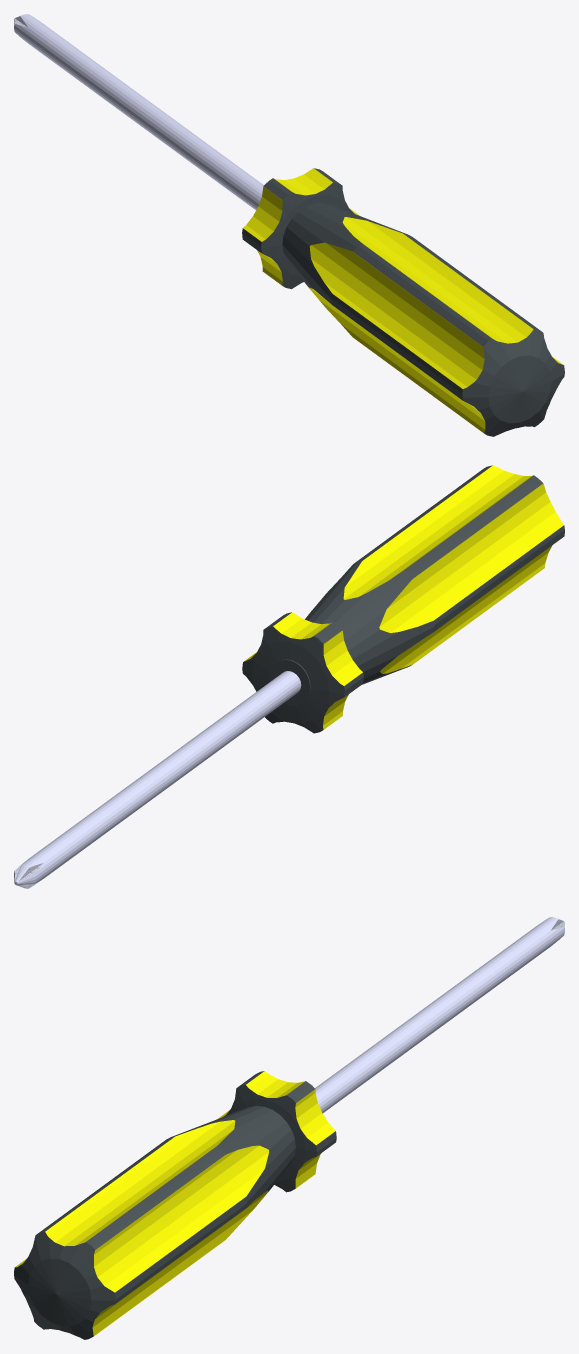
3 views of the same model, one above another, from view 1: azimuth 30°, elevation 25°; view 2: azimuth 150°, elevation 25°; view 3: azimuth 330°, elevation 25° (orthographic).
Visible parts, largest first — view 1: philips head screwdriver; view 2: philips head screwdriver; view 3: philips head screwdriver.
Part boxes in pixels (box(x1,y1,x2,y2)): philips head screwdriver: box(14, 14, 564, 436); philips head screwdriver: box(14, 465, 564, 888); philips head screwdriver: box(14, 917, 564, 1339).
Size of the model in its own units: 1.2 by 1.09 by 10.32.
